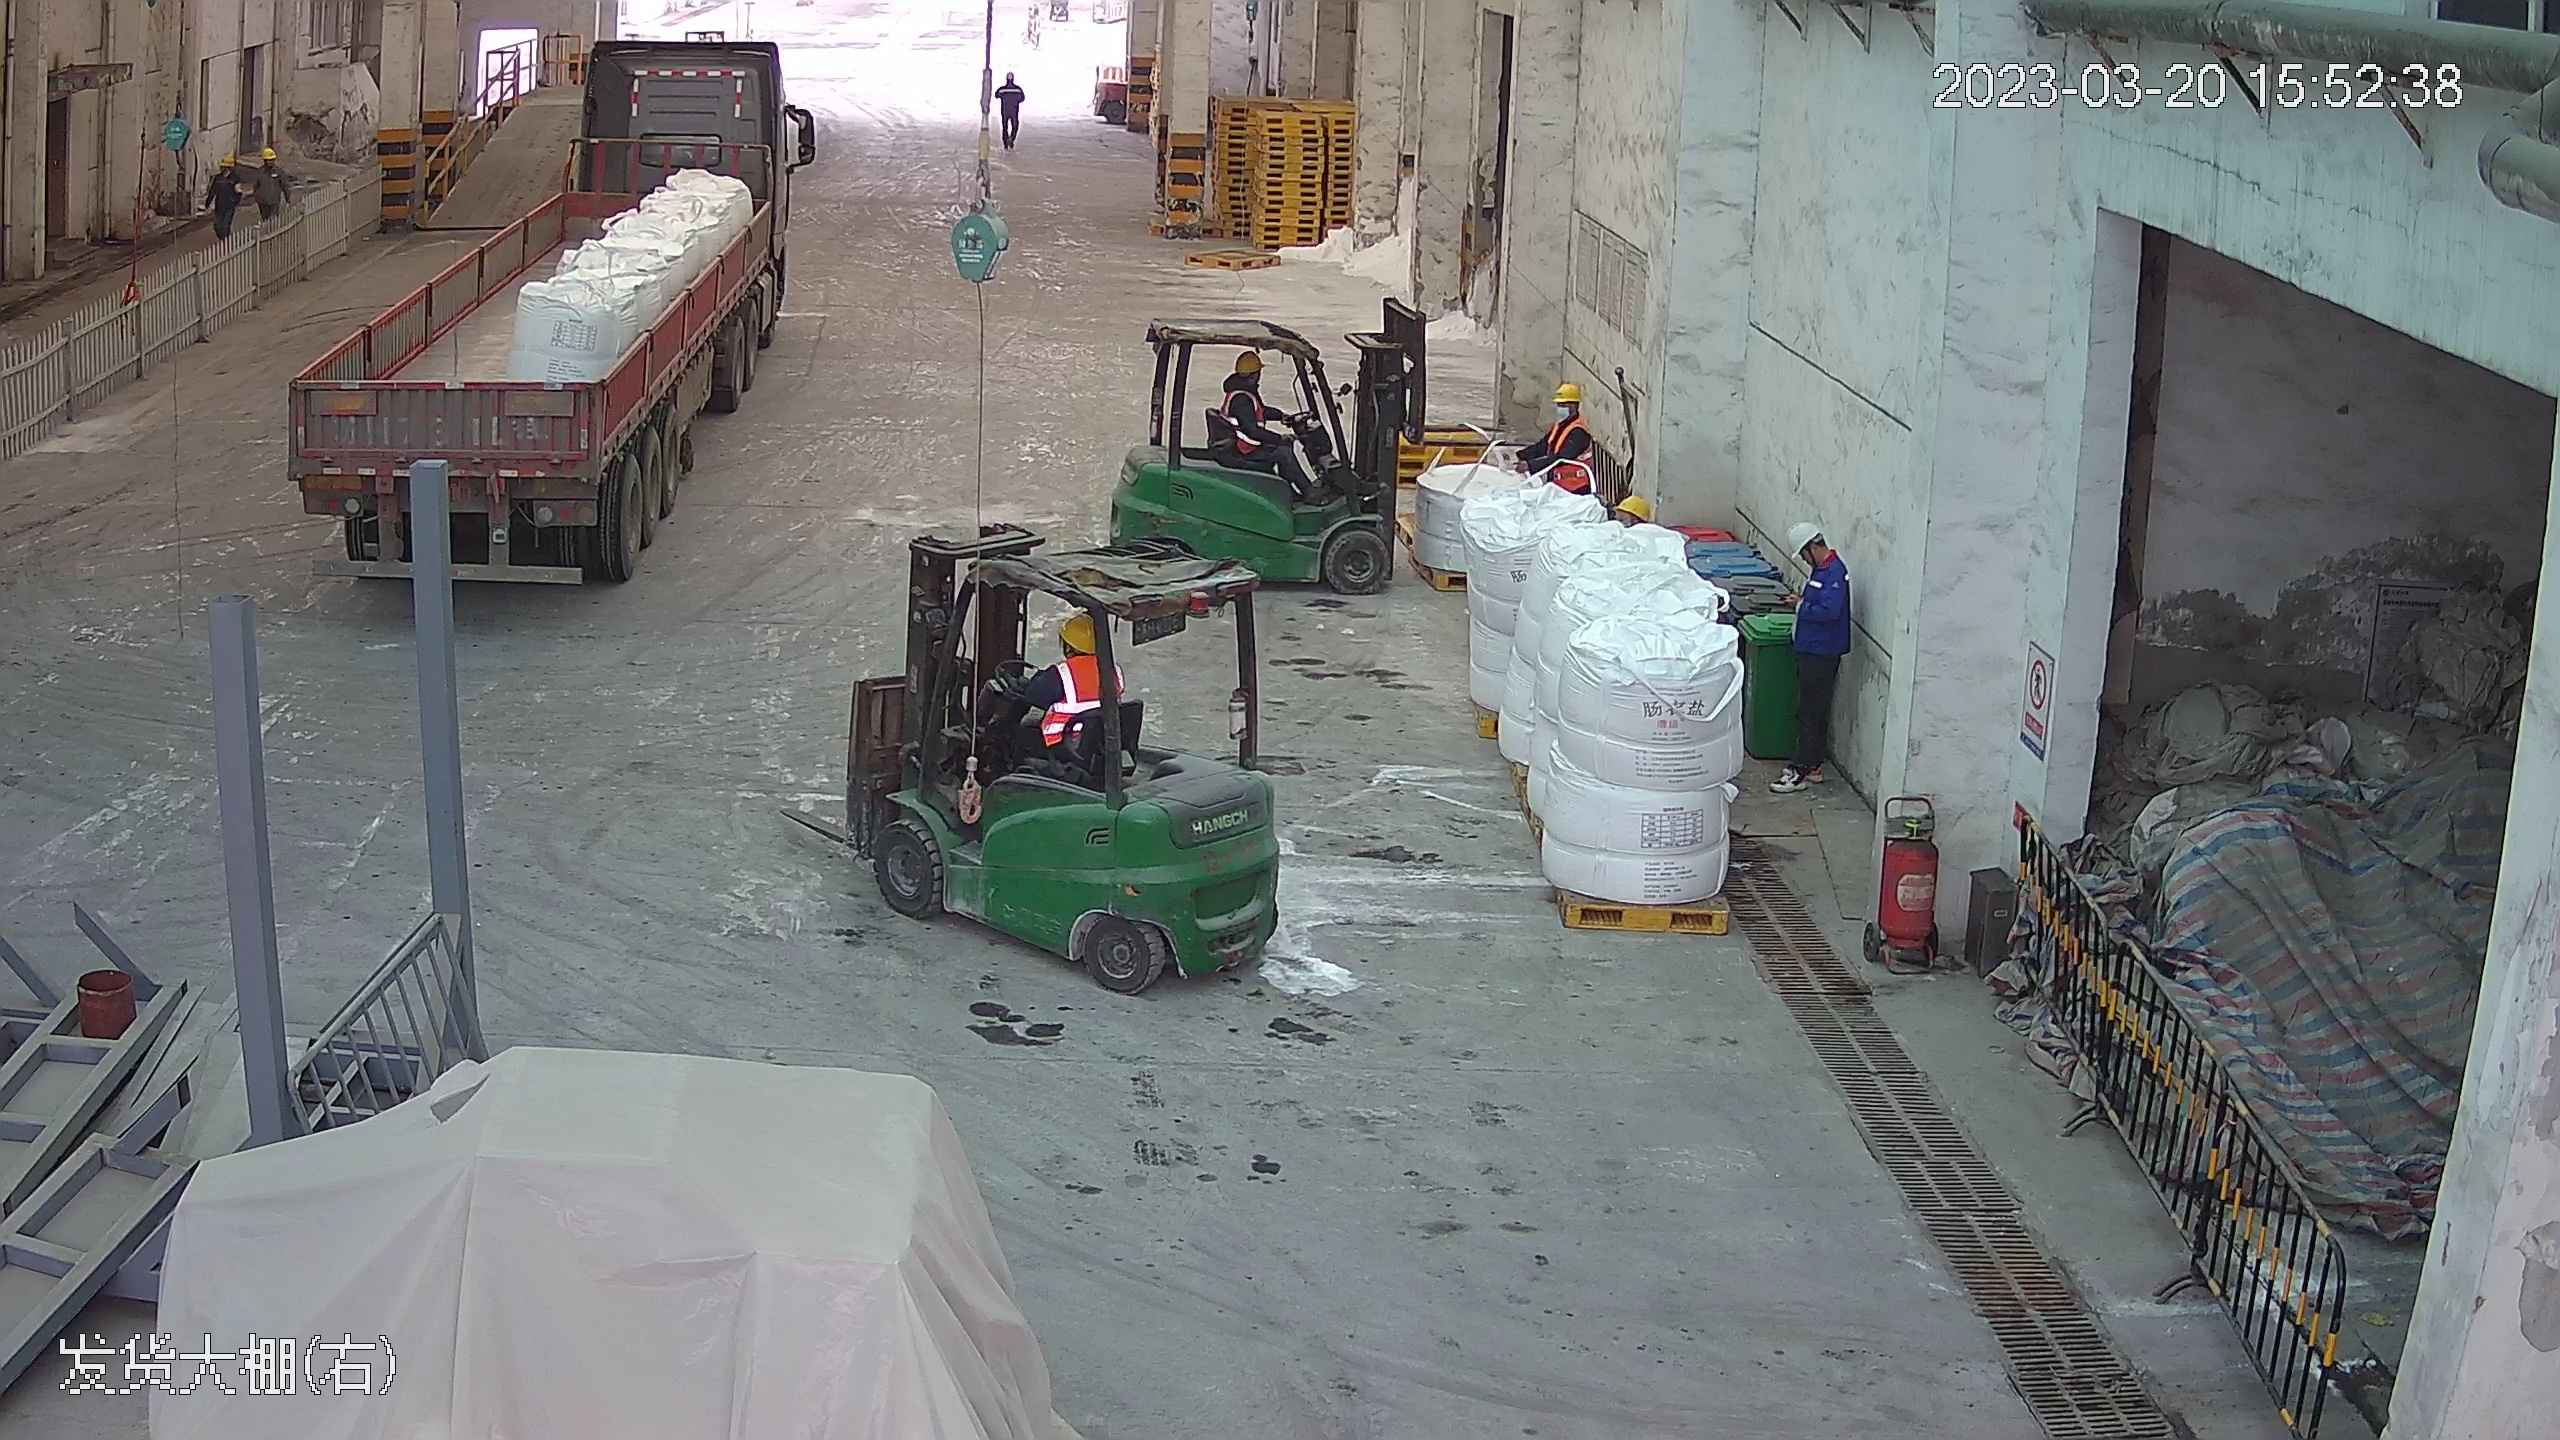head: (1031, 612, 1115, 703), (1792, 526, 1853, 610), (1540, 380, 1603, 459), (1222, 347, 1278, 417), (255, 145, 290, 187), (211, 154, 240, 188), (999, 66, 1026, 98)
helmet: (1054, 611, 1098, 653), (1788, 515, 1829, 558), (1232, 349, 1266, 378), (1616, 489, 1653, 516), (1553, 381, 1584, 408), (259, 146, 280, 163), (219, 156, 235, 168), (1005, 71, 1017, 80)
people: (1761, 525, 1861, 793), (1220, 346, 1318, 499), (211, 148, 271, 239), (254, 141, 295, 238), (206, 155, 243, 237), (993, 62, 1030, 145), (254, 145, 291, 188)
truck: (264, 15, 802, 585)
